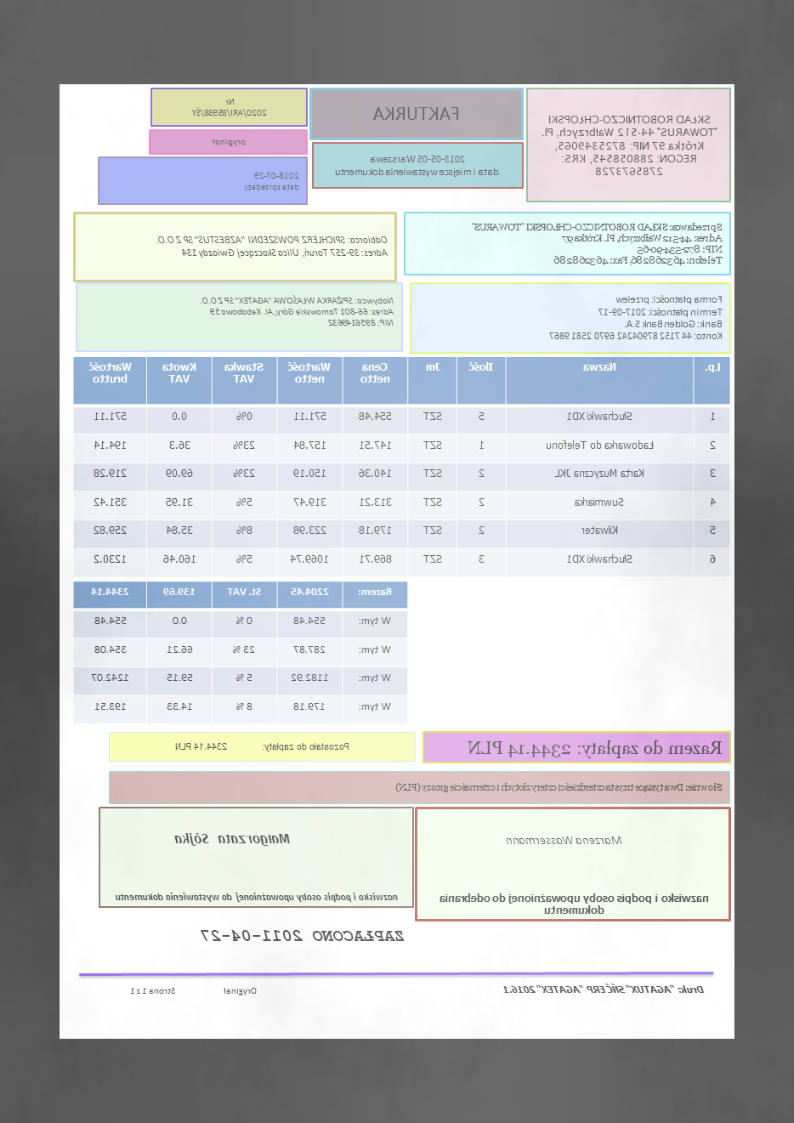Table: (71, 355, 732, 580), (72, 580, 409, 725)
TextBox: (470, 219, 725, 269), (540, 112, 719, 179), (548, 292, 725, 342), (198, 292, 397, 330), (154, 231, 391, 262), (436, 890, 712, 916), (466, 733, 724, 760), (394, 779, 724, 797), (113, 889, 400, 904), (334, 153, 501, 178), (200, 927, 406, 945), (173, 737, 353, 754), (502, 981, 706, 995), (127, 982, 260, 999), (173, 829, 292, 847), (503, 831, 626, 848), (190, 94, 269, 120), (370, 103, 462, 123), (243, 168, 301, 194), (211, 134, 248, 149)
